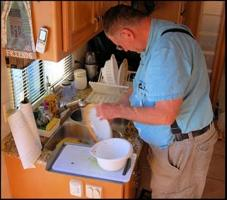person: (93, 4, 218, 199)
